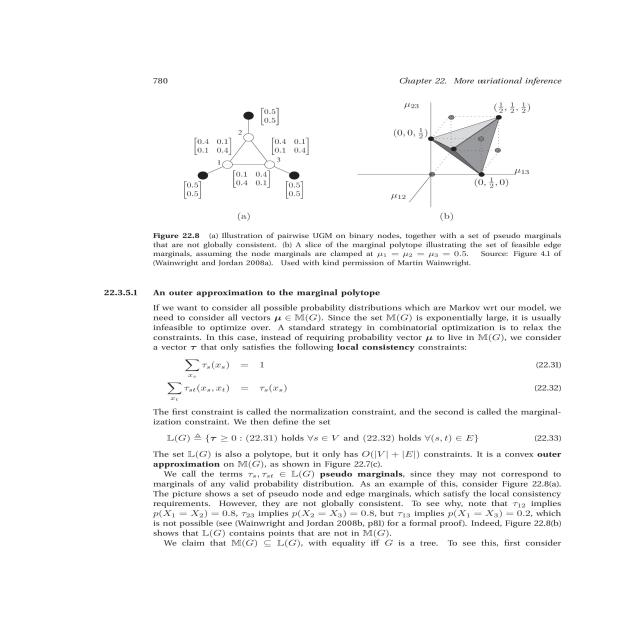diagram: (50, 97, 636, 279)
